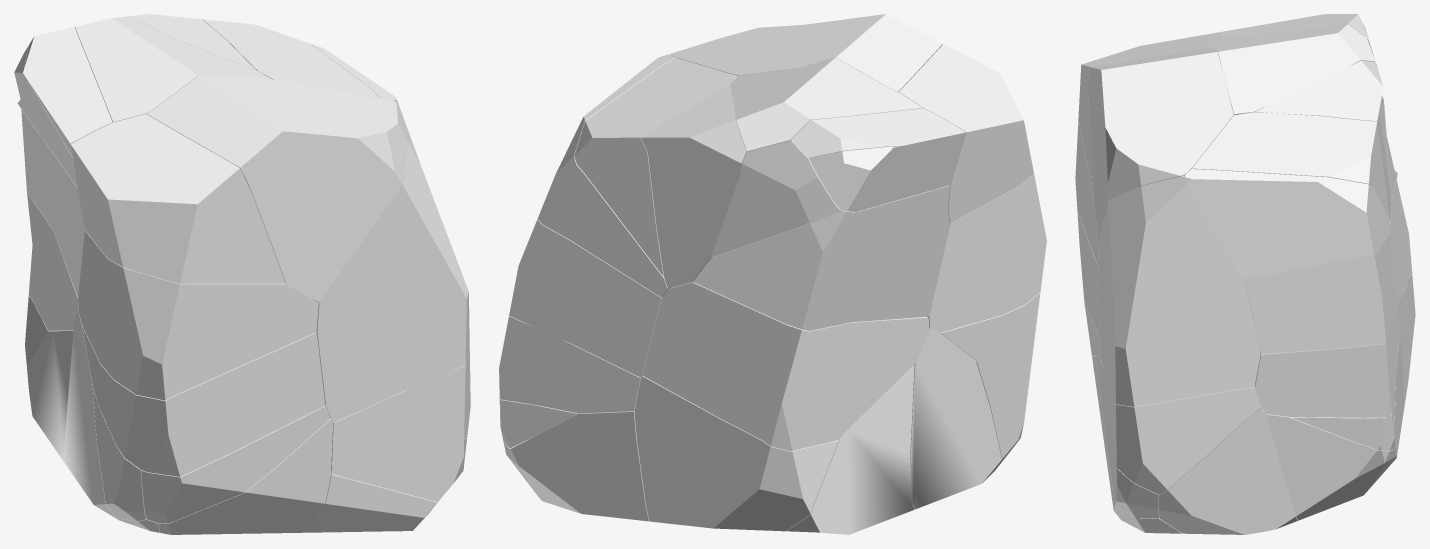
File: Medic_salt_3_broken.fbx
3 views of the same model, side by side, from view 1: azimuth 30°, elevation 25°; view 2: azimuth 150°, elevation 25°; view 3: azimuth 270°, elevation 25° (orthographic). The views are drawn at different scales.
Visible parts, largest first — view 1: medic_salt_3_cell.026, medic_salt_3_cell.020, medic_salt_3_cell.003, medic_salt_3_cell.018, medic_salt_3_cell.014, medic_salt_3_cell.029, medic_salt_3_cell.017, medic_salt_3_cell.028, medic_salt_3_cell.019, medic_salt_3_cell.011, medic_salt_3_cell.006, medic_salt_3_cell.002 (+10 smaller); view 2: medic_salt_3_cell.016, medic_salt_3_cell.009, medic_salt_3_cell.005, medic_salt_3_cell.024, medic_salt_3_cell.023, medic_salt_3_cell.018, medic_salt_3_cell.002, medic_salt_3_cell.003, medic_salt_3_cell.008, medic_salt_3_cell.026, medic_salt_3_cell.012, medic_salt_3_cell.007 (+9 smaller); view 3: medic_salt_3_cell.020, medic_salt_3_cell.026, medic_salt_3_cell.021, medic_salt_3_cell.023, medic_salt_3_cell.001, medic_salt_3_cell.002, medic_salt_3_cell.006, medic_salt_3_cell.022, medic_salt_3_cell.029, medic_salt_3_cell, medic_salt_3_cell.024, medic_salt_3_cell.003 (+10 smaller).
Boxes of the visible parts, box(x1,y1,x2,y2) form: medic_salt_3_cell.026: box(147, 75, 406, 301); medic_salt_3_cell.020: box(304, 101, 469, 422); medic_salt_3_cell.003: box(70, 114, 285, 284); medic_salt_3_cell.018: box(78, 230, 318, 400); medic_salt_3_cell.014: box(82, 325, 325, 476); medic_salt_3_cell.029: box(74, 16, 271, 122); medic_salt_3_cell.017: box(158, 418, 332, 534); medic_salt_3_cell.028: box(331, 422, 466, 502); medic_salt_3_cell.019: box(141, 405, 330, 523); medic_salt_3_cell.011: box(24, 27, 112, 156); medic_salt_3_cell.006: box(335, 350, 470, 438); medic_salt_3_cell.002: box(203, 19, 378, 97); medic_salt_3_cell.016: box(642, 282, 929, 451); medic_salt_3_cell.009: box(693, 185, 950, 330); medic_salt_3_cell.005: box(634, 376, 838, 531); medic_salt_3_cell.024: box(641, 84, 747, 288); medic_salt_3_cell.023: box(509, 219, 662, 377); medic_salt_3_cell.018: box(927, 173, 1046, 332); medic_salt_3_cell.002: box(574, 57, 737, 276); medic_salt_3_cell.003: box(899, 44, 1033, 223); medic_salt_3_cell.008: box(910, 329, 1002, 509); medic_salt_3_cell.026: box(670, 14, 942, 91); medic_salt_3_cell.012: box(785, 365, 914, 534); medic_salt_3_cell.007: box(510, 411, 649, 521); medic_salt_3_cell.020: box(1098, 176, 1260, 406); medic_salt_3_cell.026: box(1088, 47, 1233, 240); medic_salt_3_cell.021: box(1184, 169, 1390, 278); medic_salt_3_cell.023: box(1245, 233, 1396, 353); medic_salt_3_cell.001: box(1158, 406, 1297, 534); medic_salt_3_cell.002: box(1192, 112, 1388, 215); medic_salt_3_cell.006: box(1101, 361, 1260, 494); medic_salt_3_cell.022: box(1255, 308, 1399, 417); medic_salt_3_cell.029: box(1211, 24, 1376, 115); medic_salt_3_cell: box(1266, 414, 1393, 520); medic_salt_3_cell.024: box(1255, 60, 1391, 220); medic_salt_3_cell.003: box(1078, 32, 1220, 199).
Size of the model in its own units: 131 by 160 by 121.
